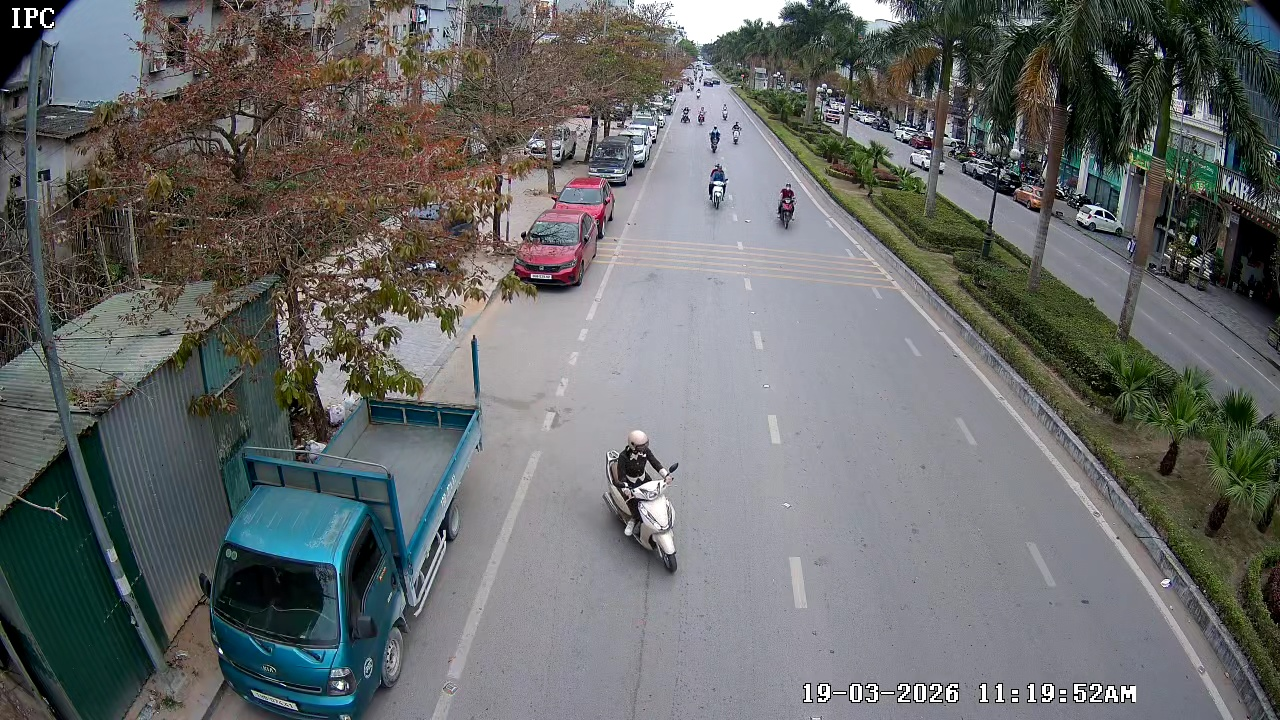car: (513, 210, 591, 290), (554, 176, 616, 237), (586, 128, 640, 188)
motorbike: (602, 429, 683, 574), (773, 176, 812, 233), (703, 155, 735, 216), (705, 120, 723, 152), (728, 122, 747, 147), (718, 99, 734, 123), (697, 105, 709, 125), (680, 106, 692, 123)
